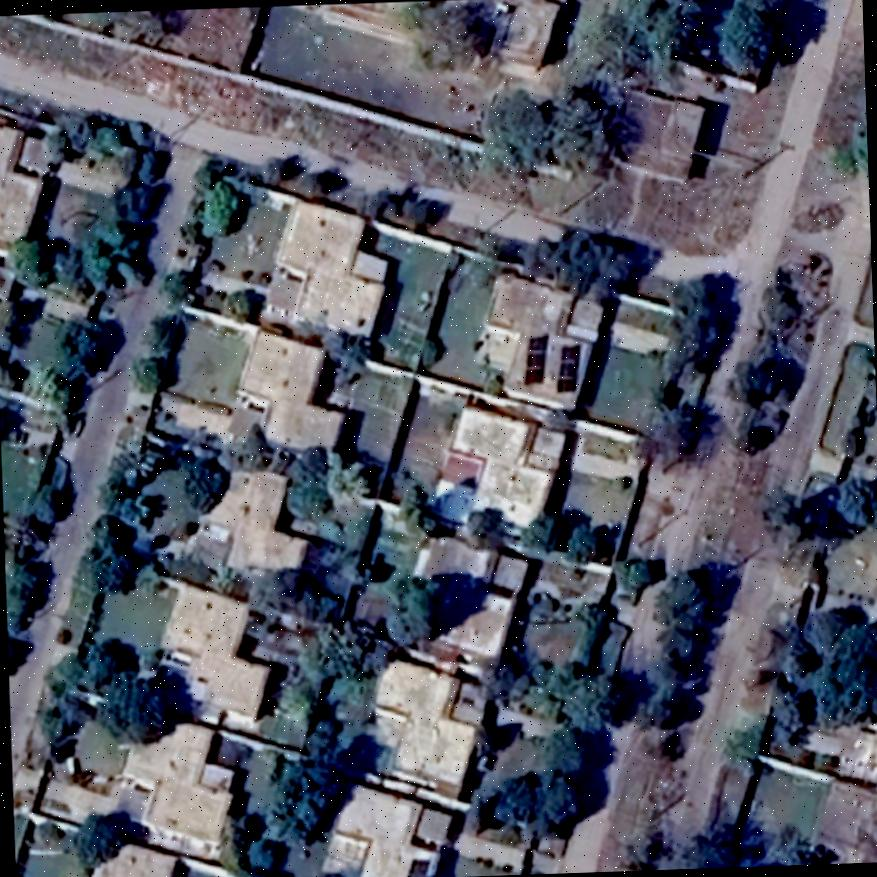Solarpanel: (519, 330, 554, 389), (552, 339, 586, 396)
